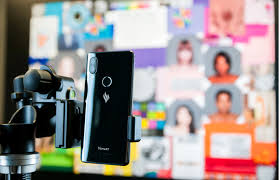vsmart: (78, 41, 138, 167)
